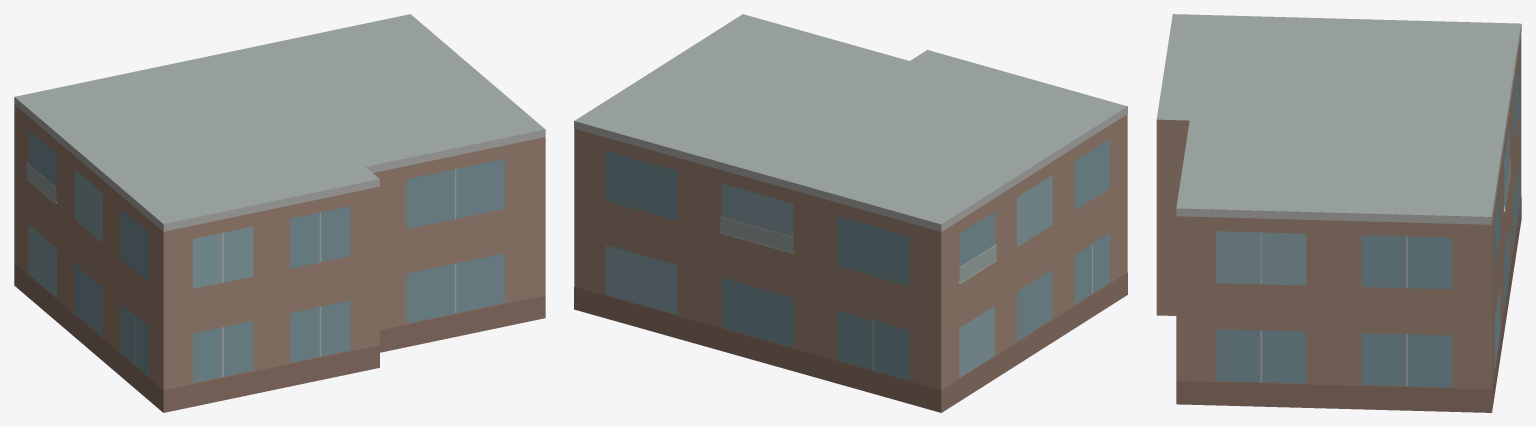
The model's file is survey-upis-32805426.glb.
3 renders of one model, left to right at view 1: azimuth 30°, elevation 25°; view 2: azimuth 150°, elevation 25°; view 3: azimuth 270°, elevation 25°, orthographic. The views are drawn at different scales.
Visible parts, largest first — view 1: survey-upis-32805426.tmp; view 2: survey-upis-32805426.tmp; view 3: survey-upis-32805426.tmp.
Part boxes in pixels (left/top/right/bottom): survey-upis-32805426.tmp: left=14, top=14, right=545, bottom=412; survey-upis-32805426.tmp: left=574, top=14, right=1127, bottom=412; survey-upis-32805426.tmp: left=1156, top=14, right=1521, bottom=412.
Size of the model in its own units: 13.57 by 6.1 by 10.31.
